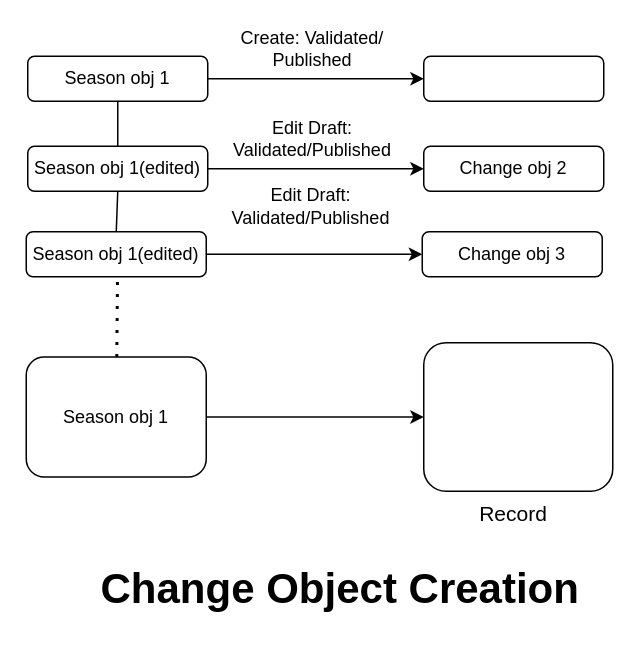
Some shapes in this 639 by 666 pixel diagram are drawn without their labels. Here are the shapes that lost their labels. From the top down, the box of each, then its label:
(422, 55, 604, 101): Change obj 1
(422, 341, 613, 491): Change obj 3(latest) Change obj 2 (old) Change obj 1 (old) . . .
